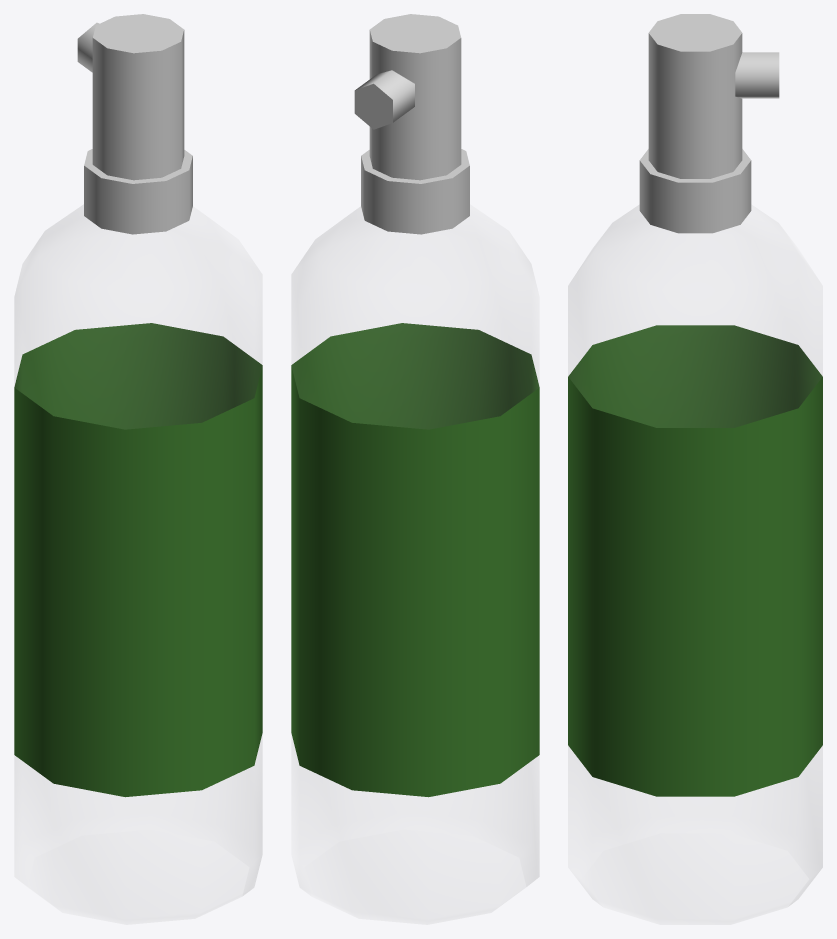
File: adhesive_spray.fbx
3 views of the same model, side by side, from view 1: azimuth 30°, elevation 25°; view 2: azimuth 150°, elevation 25°; view 3: azimuth 270°, elevation 25° (orthographic).
Parts seen in each view (by area): view 1: adhesive_spray_base, adhesive_spray_cap; view 2: adhesive_spray_base, adhesive_spray_cap; view 3: adhesive_spray_base, adhesive_spray_cap.
Part boxes in pixels (bbox=[...]): adhesive_spray_base: bbox=[14, 149, 262, 924]; adhesive_spray_cap: bbox=[77, 14, 184, 180]; adhesive_spray_base: bbox=[291, 149, 539, 924]; adhesive_spray_cap: bbox=[354, 14, 461, 180]; adhesive_spray_base: bbox=[568, 149, 822, 924]; adhesive_spray_cap: bbox=[648, 14, 779, 178].
Bounding box in the file's own units: 0.0571 × 0.06 × 0.22.
